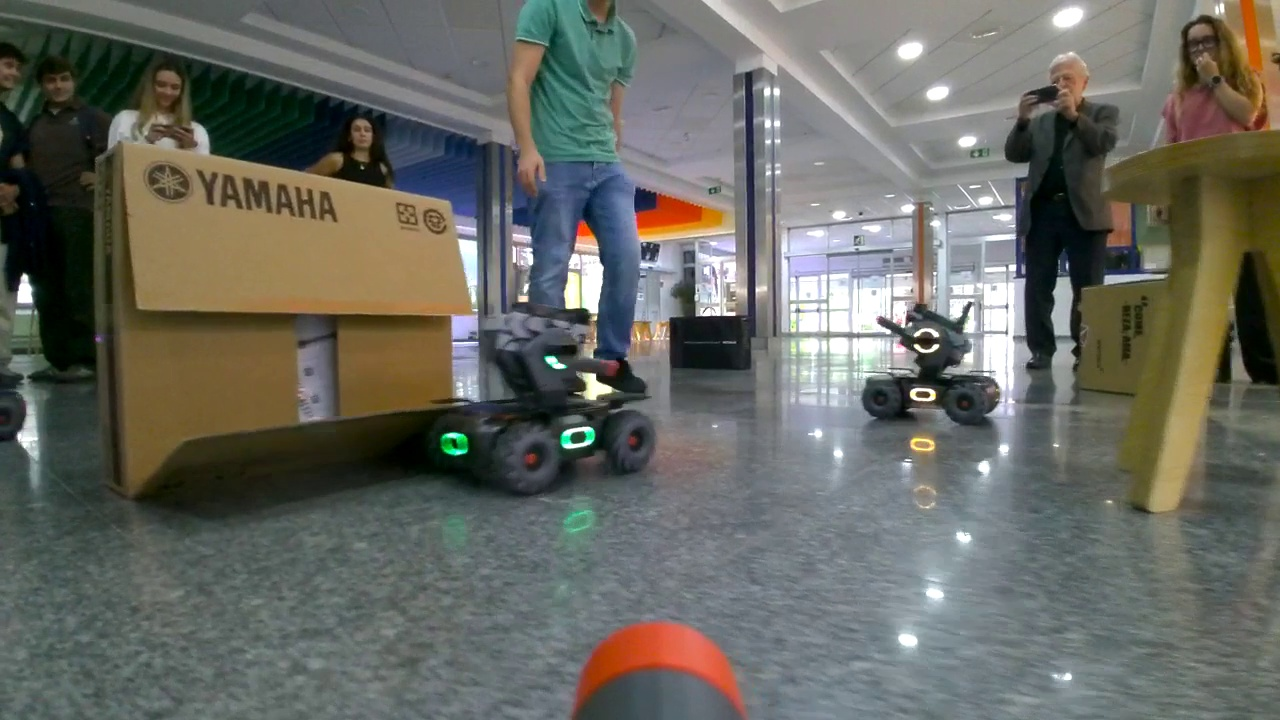robot: (429, 308, 656, 501), (862, 310, 1002, 423)
